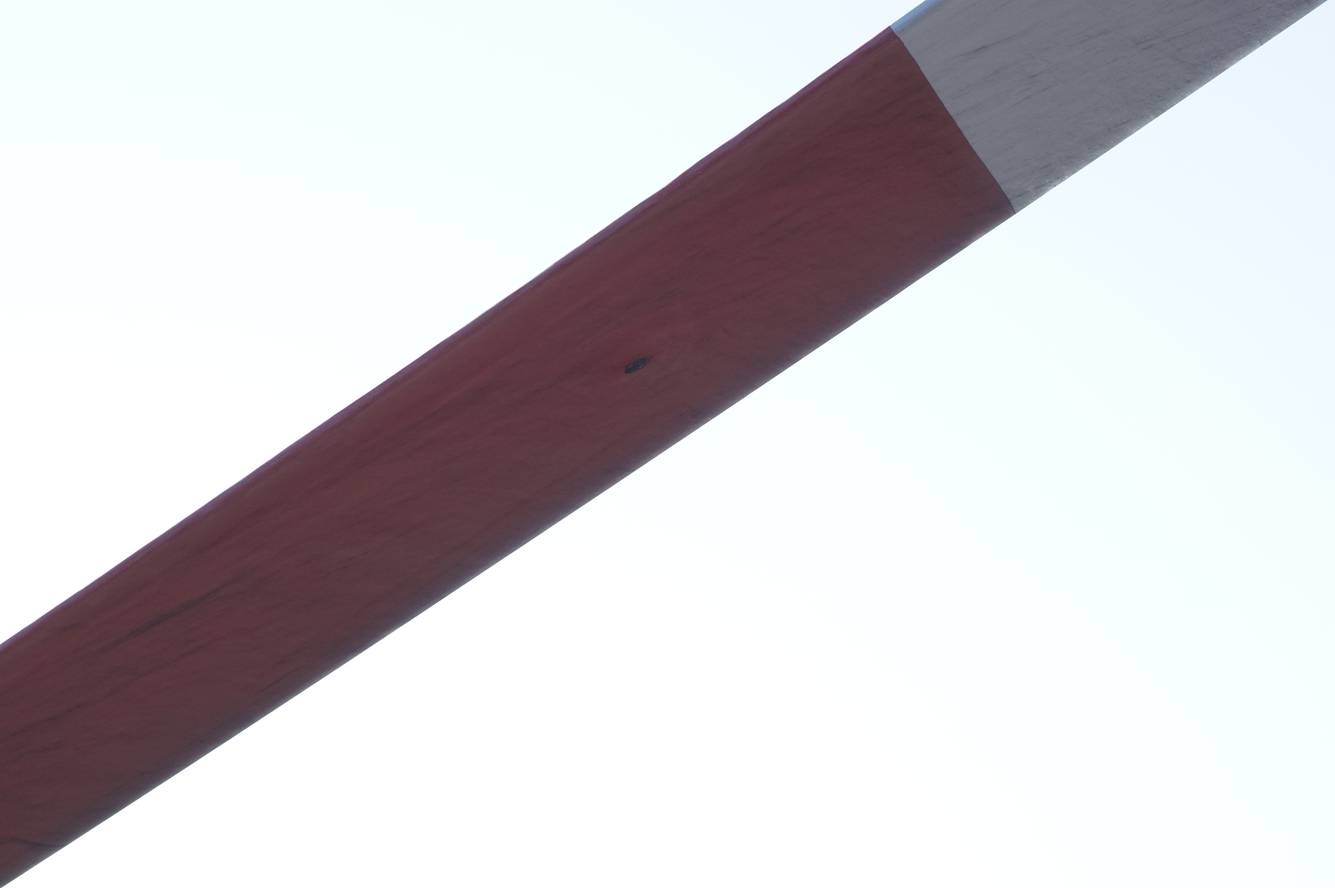Damage: (624, 355, 650, 374)
